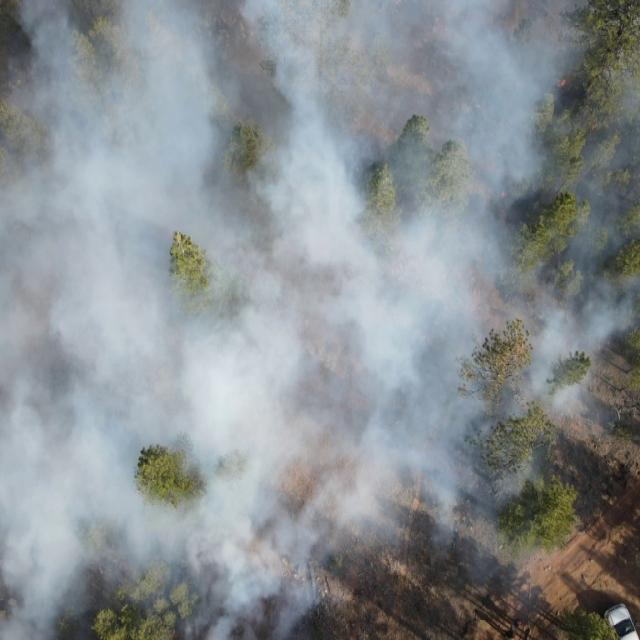fire: (555, 75, 569, 93), (498, 190, 508, 200)
smoke: (0, 1, 326, 640), (326, 0, 640, 595)
